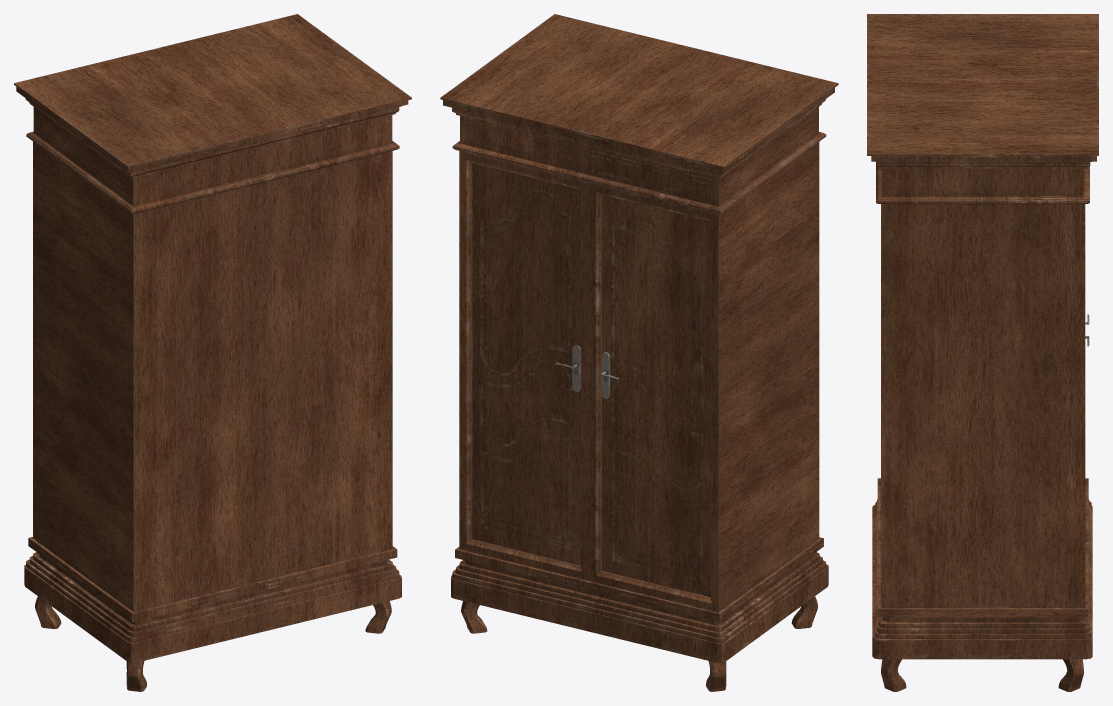
File: wardrobe_antique_lagesnpiet.glb
3 renders of one model, left to right at view 1: azimuth 30°, elevation 25°; view 2: azimuth 150°, elevation 25°; view 3: azimuth 270°, elevation 25°, orthographic.
Parts seen in each view (by area): view 1: low poly supports__0; view 2: low poly supports__0; view 3: low poly supports__0.
Boxes of the visible parts, left/top/right/bottom form: low poly supports__0: left=14, top=14, right=411, bottom=691; low poly supports__0: left=440, top=14, right=838, bottom=691; low poly supports__0: left=867, top=14, right=1098, bottom=691.
Size of the model in its own units: 1.59 by 2.88 by 1.11.
Materials: 1 (1 with a texture image).
